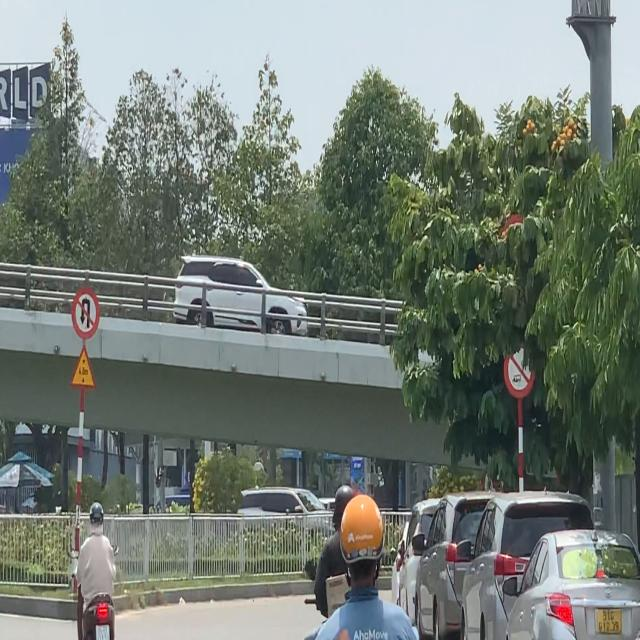Cam con lai: (504, 347, 536, 398)
Cam quay dau xe: (70, 288, 101, 339)
Nguy hiem: (68, 343, 98, 391)
